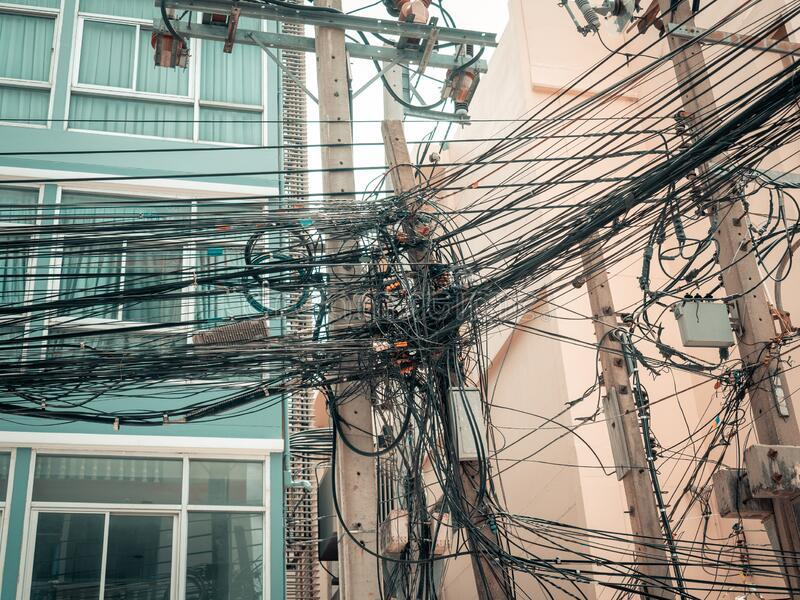wires-only: (0, 123, 480, 438), (485, 0, 800, 337)
